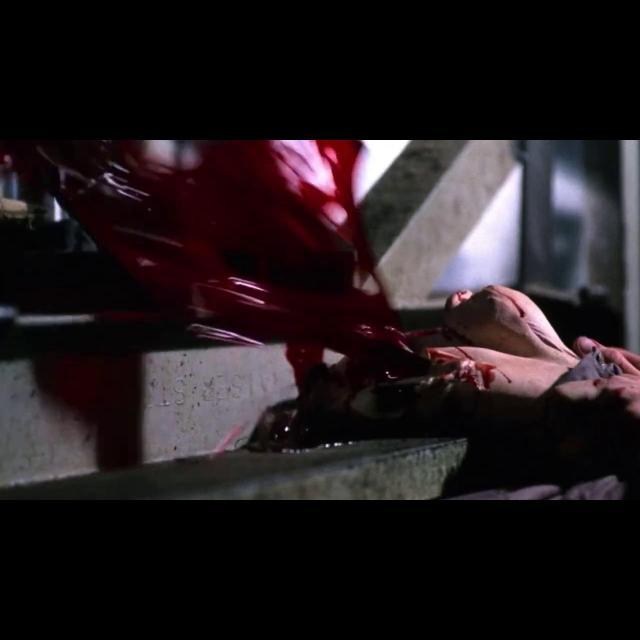blood: (9, 140, 496, 449), (268, 250, 355, 292)
